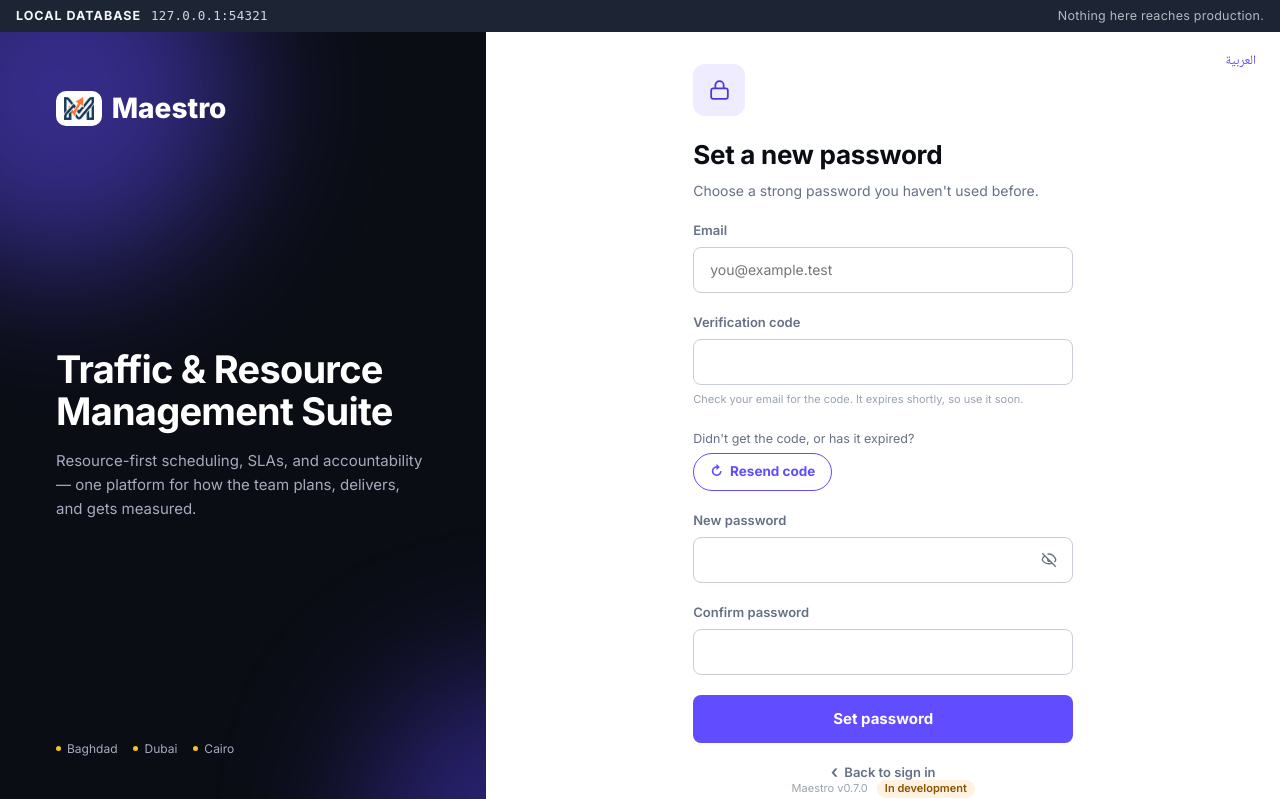
SetPasswordPage — code + password (ADR-0012) › resend requires an email first (no send, shows error)
The width and height of the screenshot is (1280, 799).
Click the button with test id "set-password-resend" at [763, 472], box [693,453,832,491]
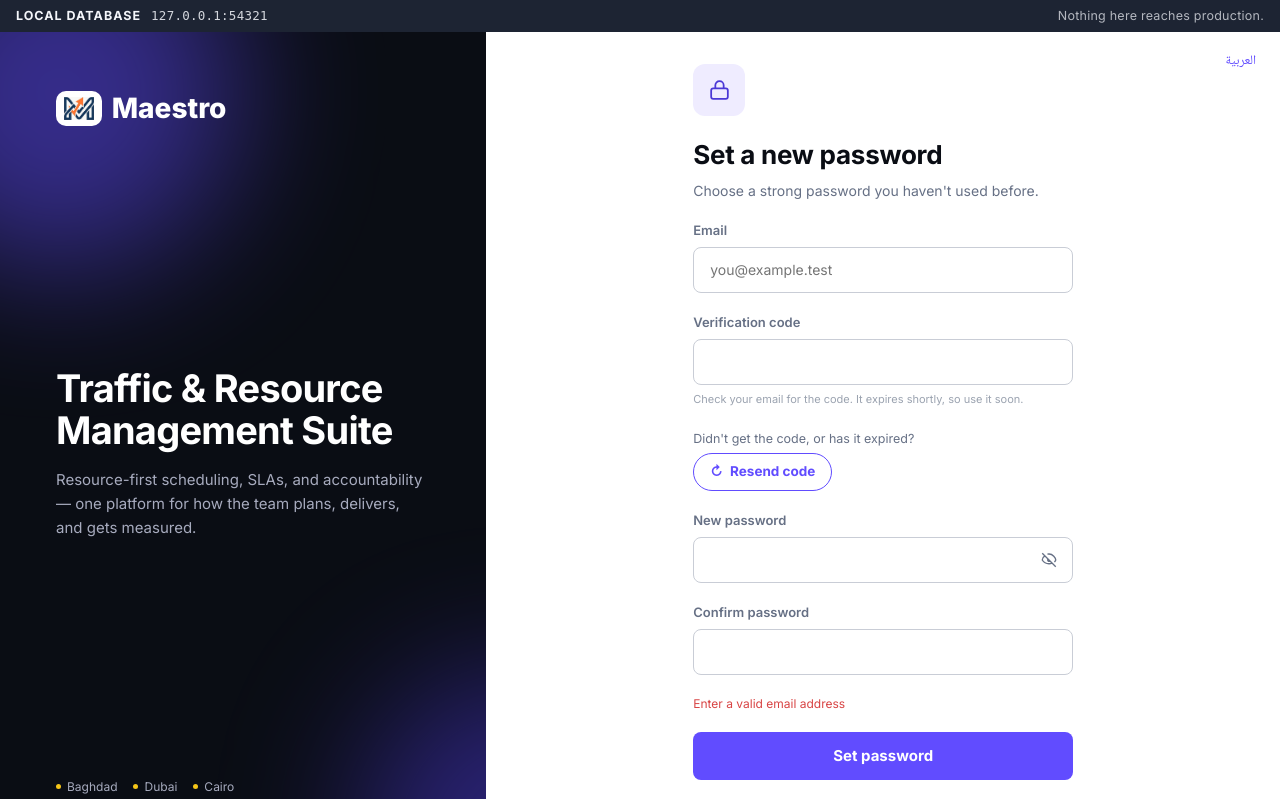
Check: the message "Enter a valid email address" is shown, box [693,696,845,711]
